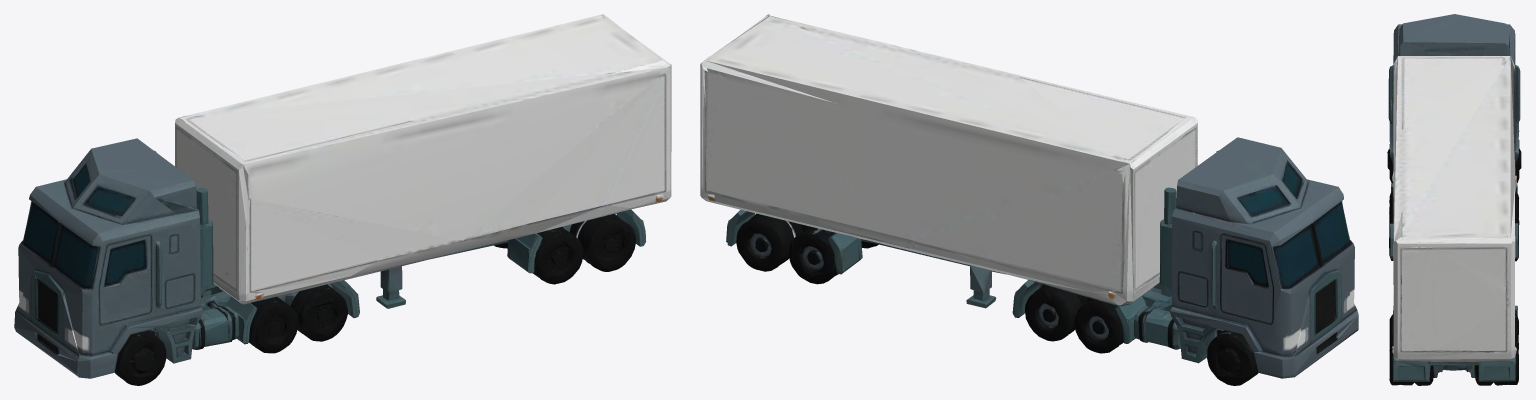
The model's file is semitruck.glb.
The picture shows the model from 3 angles, left to right: view 1: azimuth 30°, elevation 25°; view 2: azimuth 150°, elevation 25°; view 3: azimuth 270°, elevation 25°; orthographic projection. The views are drawn at different scales.
Bounding box in the file's own units: 1.9 × 0.5961 × 0.4234.
Materials: 1 (1 with a texture image).
